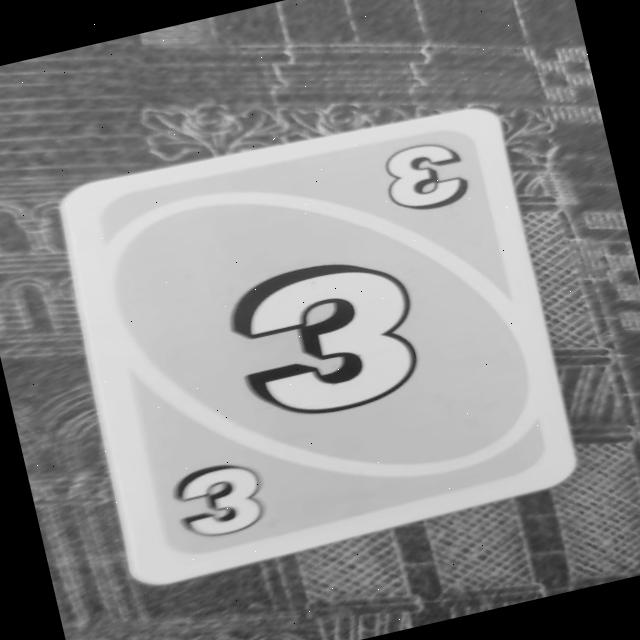card_3: (41, 87, 588, 591)
